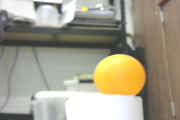PingPongBall: (94, 54, 146, 97)
